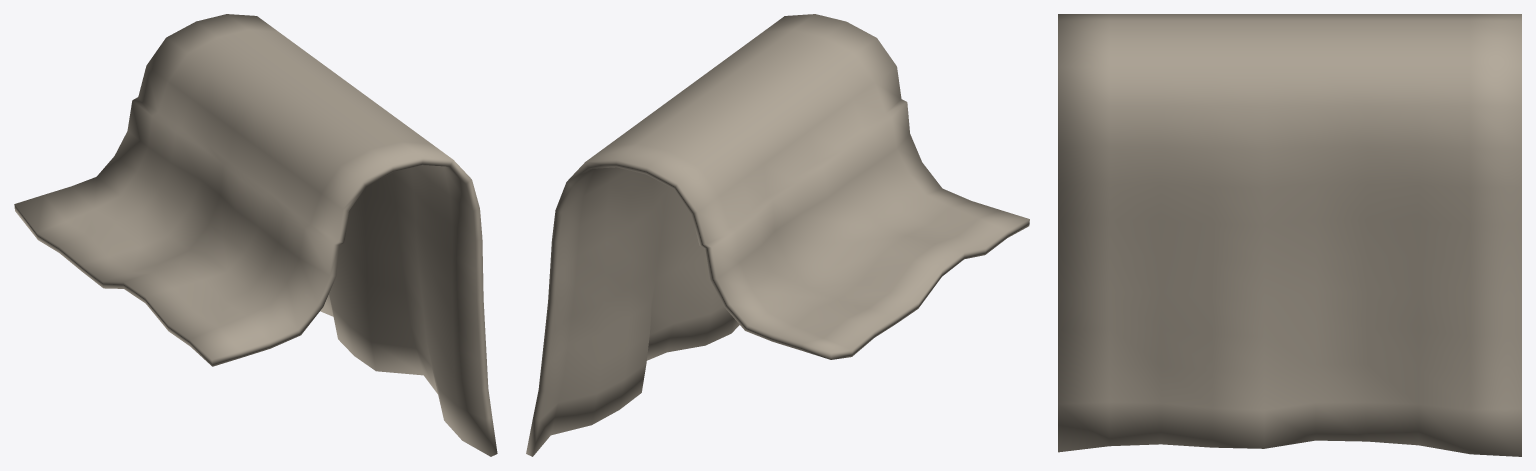
Rendered from decor_c_throw_chair.gltf.
3 views of the same model, side by side, from view 1: azimuth 30°, elevation 25°; view 2: azimuth 150°, elevation 25°; view 3: azimuth 270°, elevation 25° (orthographic). The views are drawn at different scales.
Visible parts, largest first — view 1: DecorC_ThrowChair_Oat_NoCollide; view 2: DecorC_ThrowChair_Oat_NoCollide; view 3: DecorC_ThrowChair_Oat_NoCollide.
Part boxes in pixels (x1,y1,x2,y2): DecorC_ThrowChair_Oat_NoCollide: [14, 14, 497, 456]; DecorC_ThrowChair_Oat_NoCollide: [526, 14, 1029, 456]; DecorC_ThrowChair_Oat_NoCollide: [1058, 14, 1521, 456].
Size of the model in its own units: 0.4512 by 0.4432 by 0.5.
